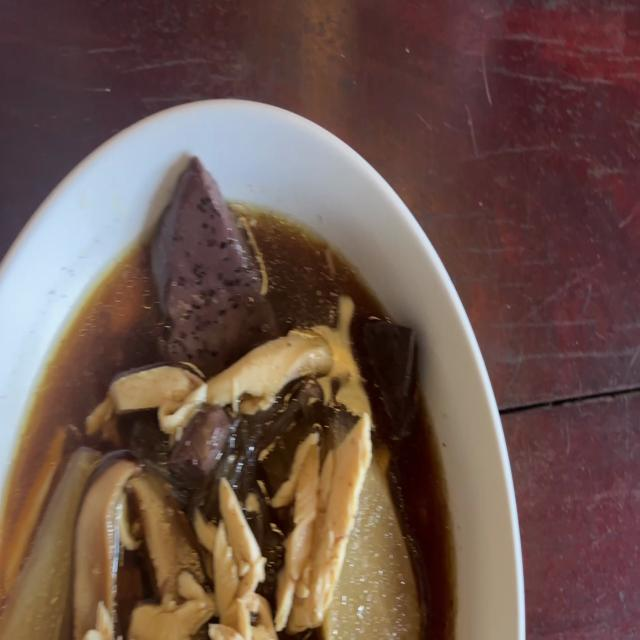noodle: (150, 159, 268, 353), (355, 306, 420, 415), (179, 410, 221, 482)
